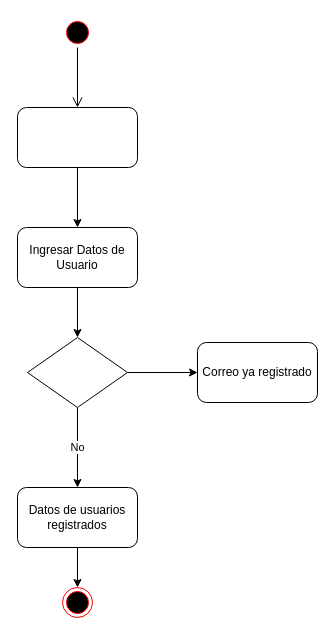
Image size: 335x635. Some labels were removed from this diagram. Here are the shapes that lost their labels. From the top down, the centre of each, then its label:
At point (77, 137): "Registrar Usuario".
At point (77, 372): "Existe correo electrónico".
